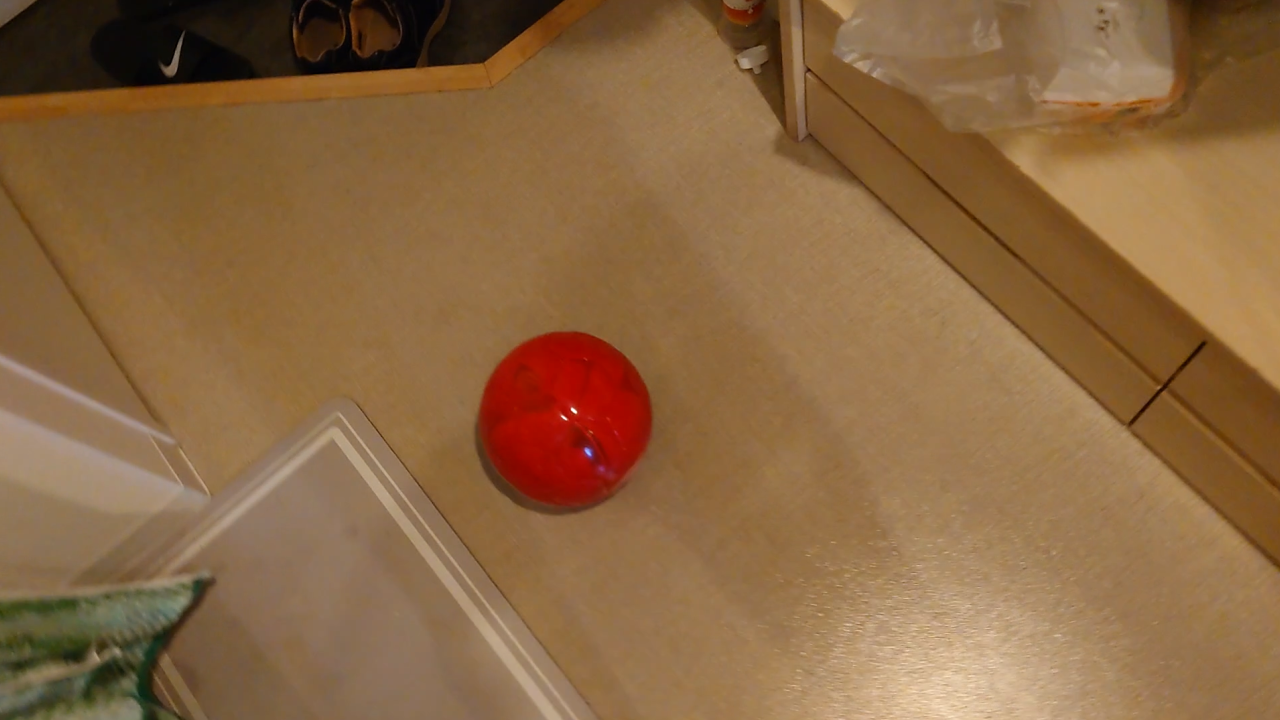red: (478, 331, 651, 508)
